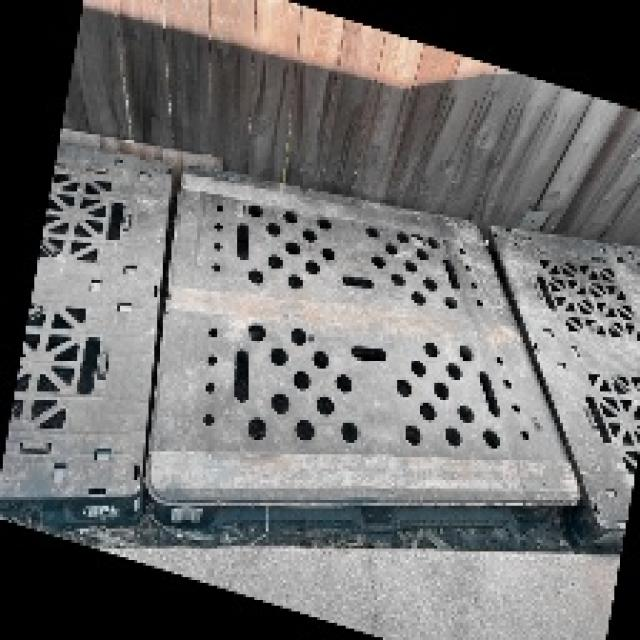igps: (138, 159, 586, 547), (0, 131, 177, 540), (474, 209, 640, 561)
